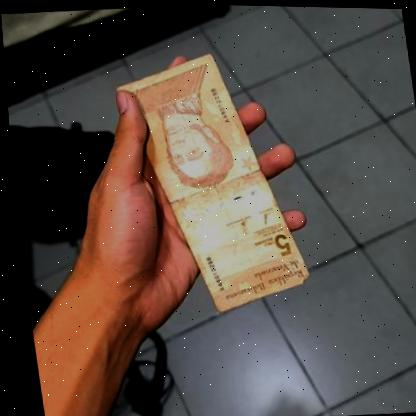five-front-vef: (111, 45, 309, 318)
